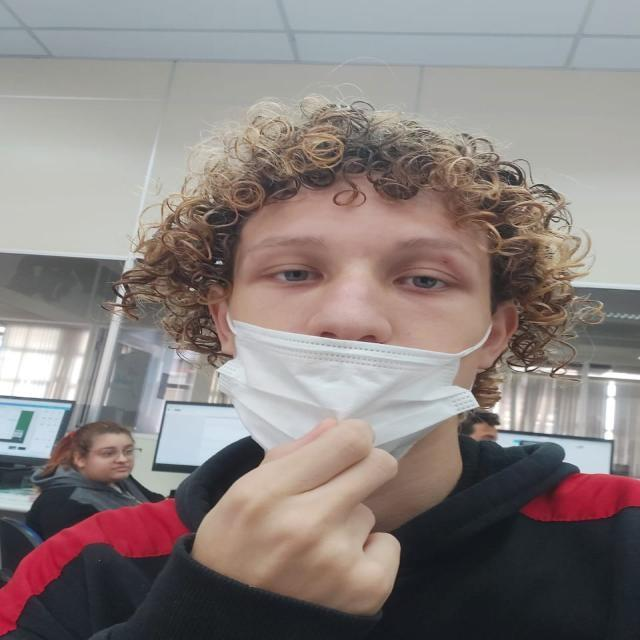hairnet: (234, 194, 470, 431)
